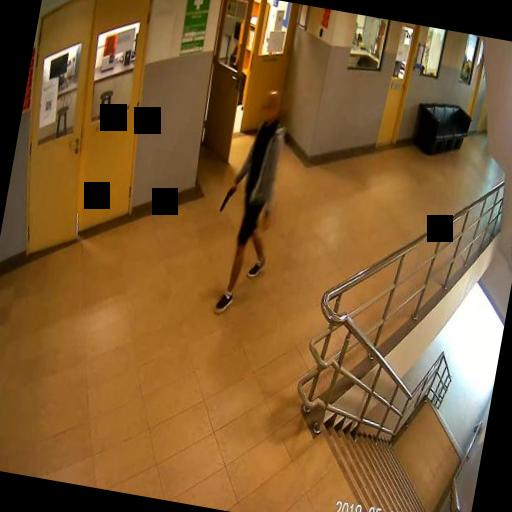Handgun: (218, 182, 235, 213)
